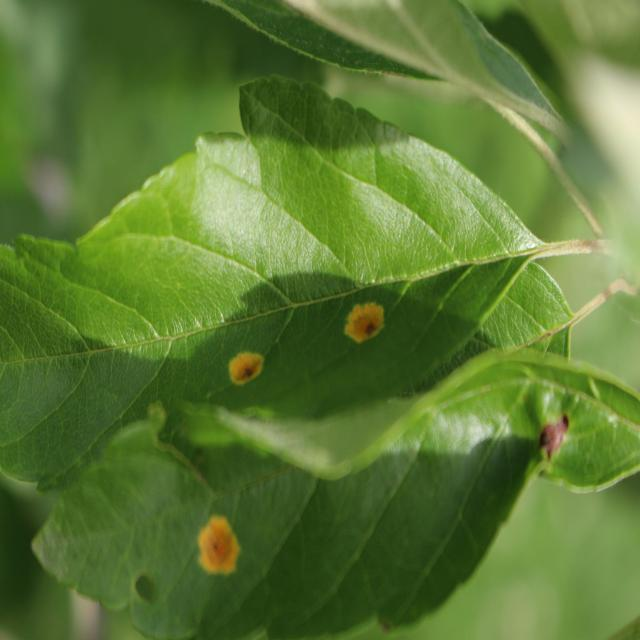Rust: (338, 286, 411, 376), (188, 497, 248, 589), (219, 318, 279, 402)
